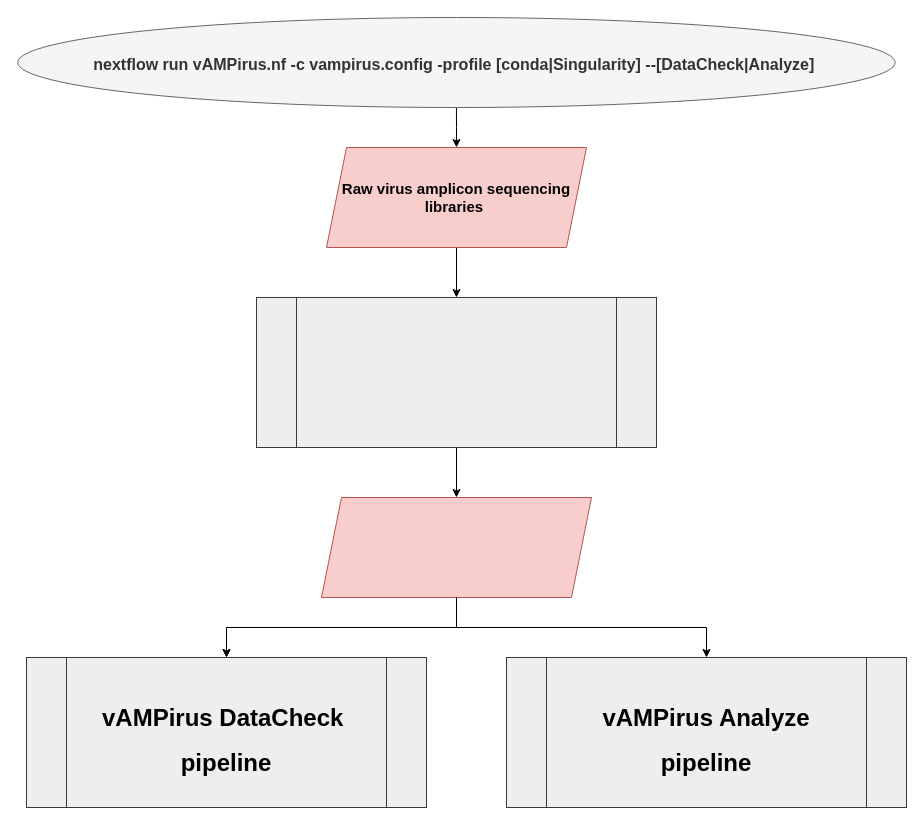
Some shapes in this 924 by 825 pixel diagram are drawn without their labels. The shapes that lost their labels are listed below. From the top down, each one's centre as x and y in pixels, then its label:
(x=456, y=372): Read processing/cleaning
(x=456, y=547): Verified amplicon sequence variants (ASVs)
